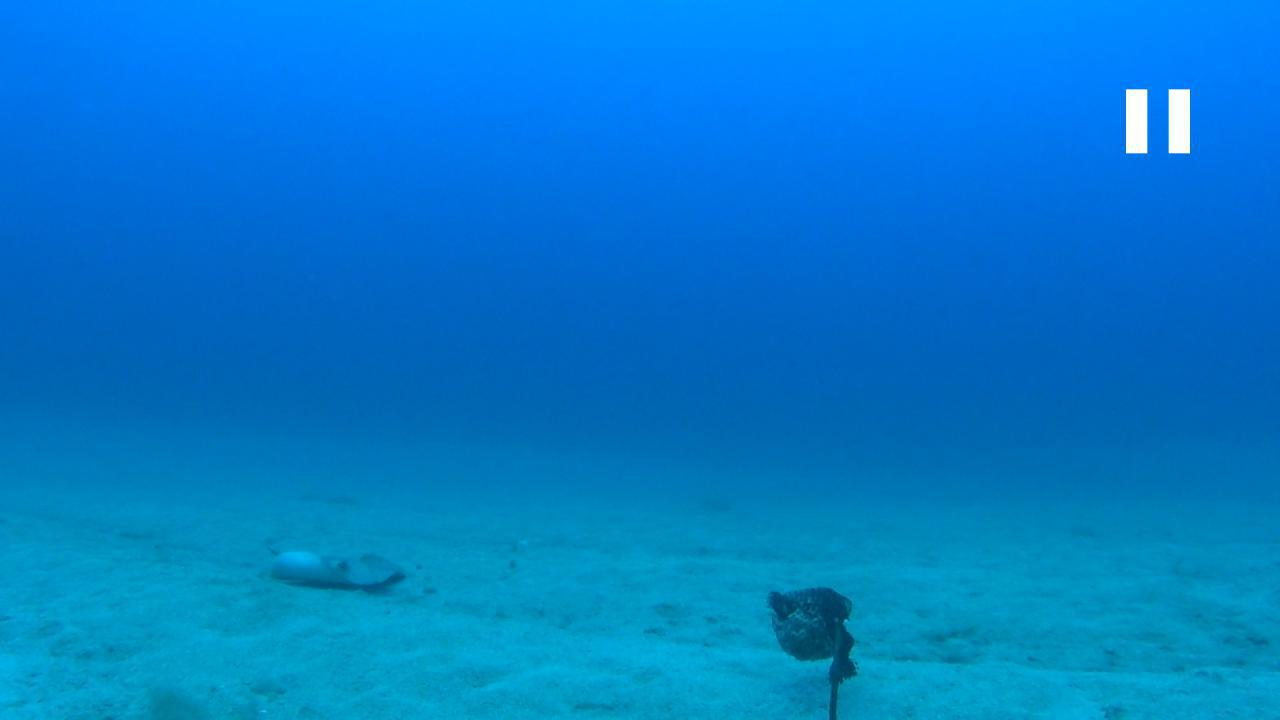dasyatis: (263, 543, 404, 587)
